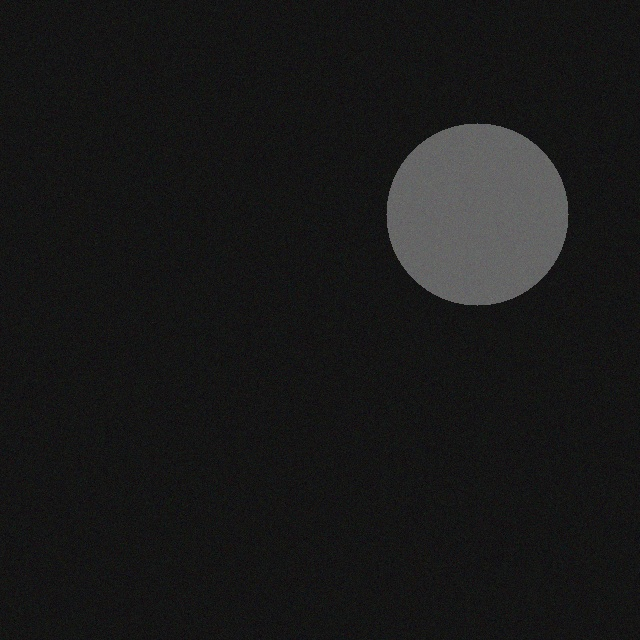circle: (392, 119, 574, 301)
